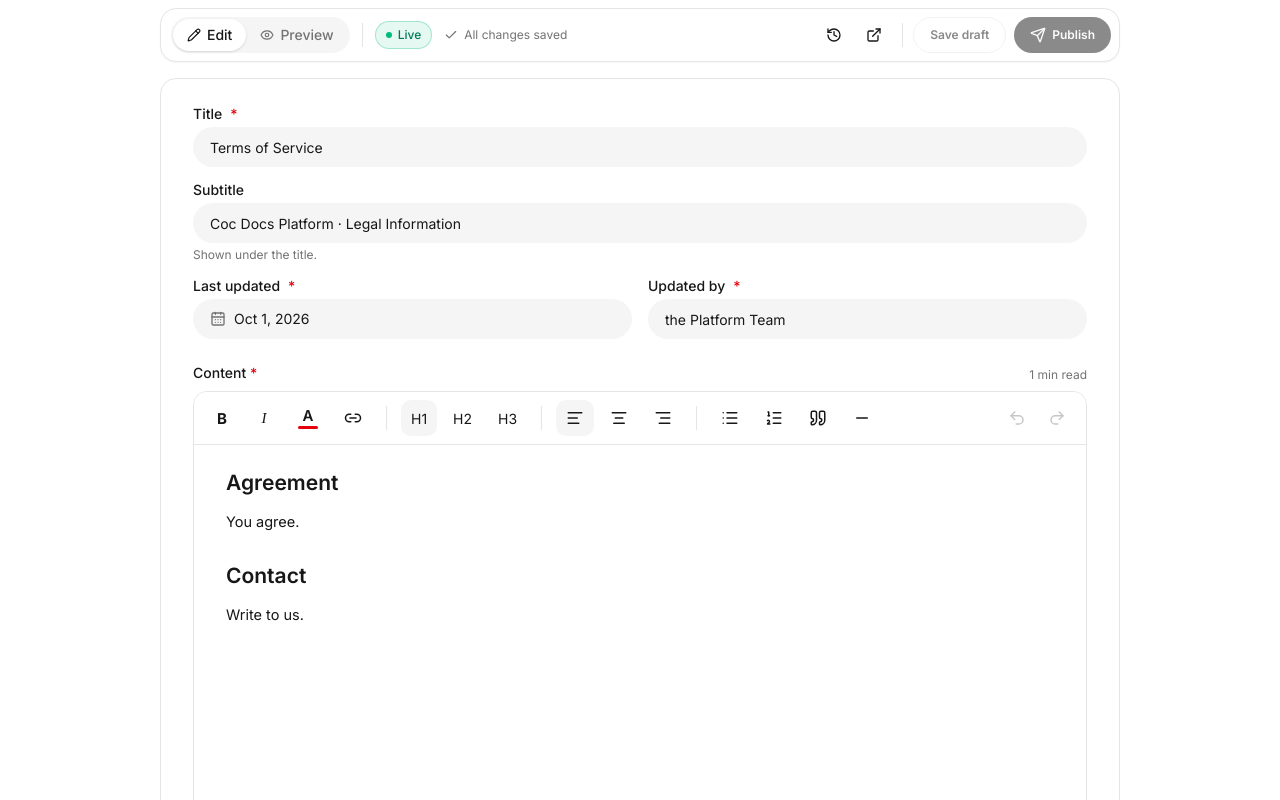
LegalPageEditor › Preview renders what readers get
The image size is (1280, 800).
Click the tab "Preview" at [297, 35], box [246, 19, 348, 51]
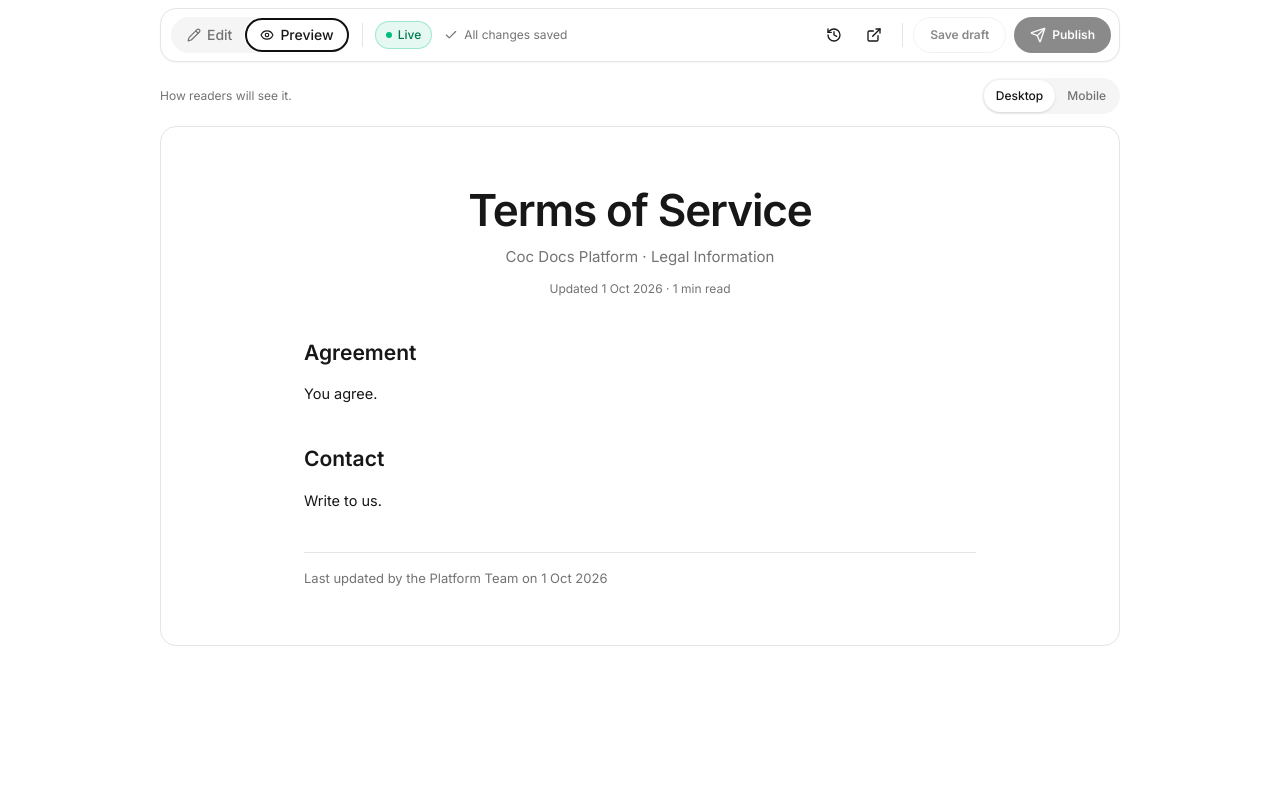
Expected: the heading "Agreement" is shown, [304, 340, 416, 364]
Result: the heading "Terms of Service" is shown at [468, 183, 812, 237]
